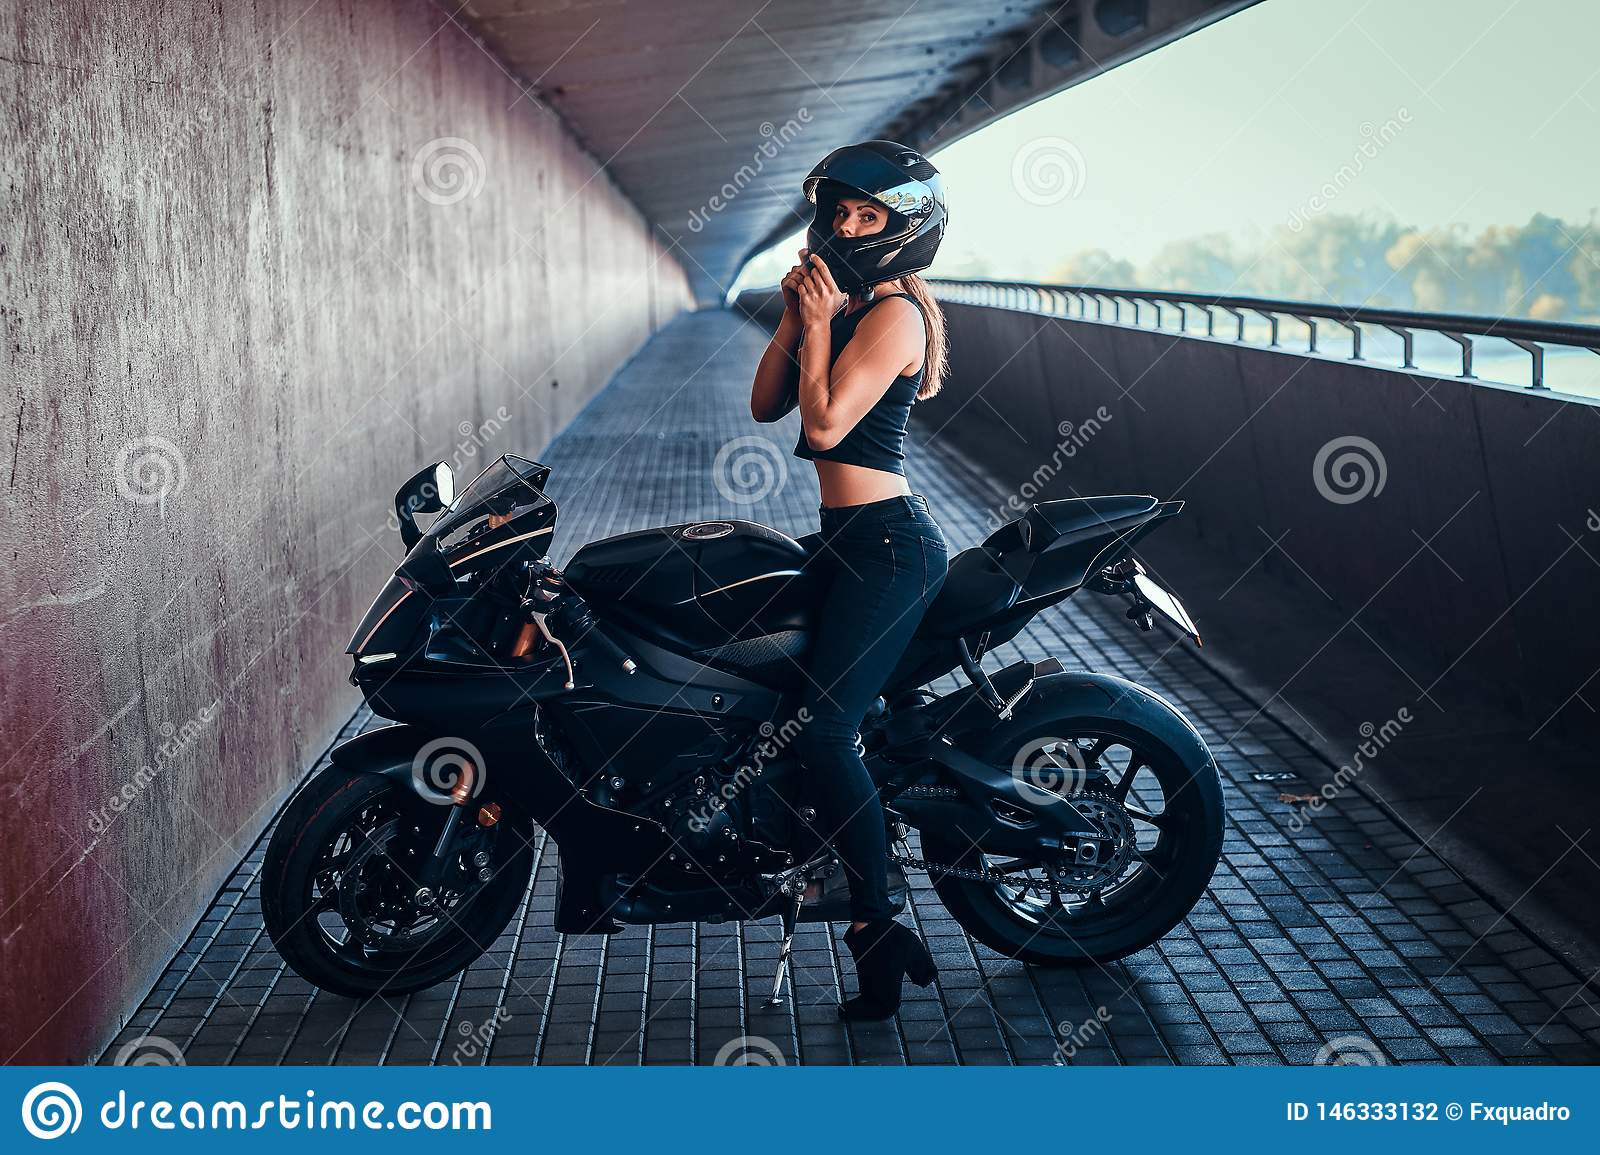helmet: (794, 145, 953, 269)
